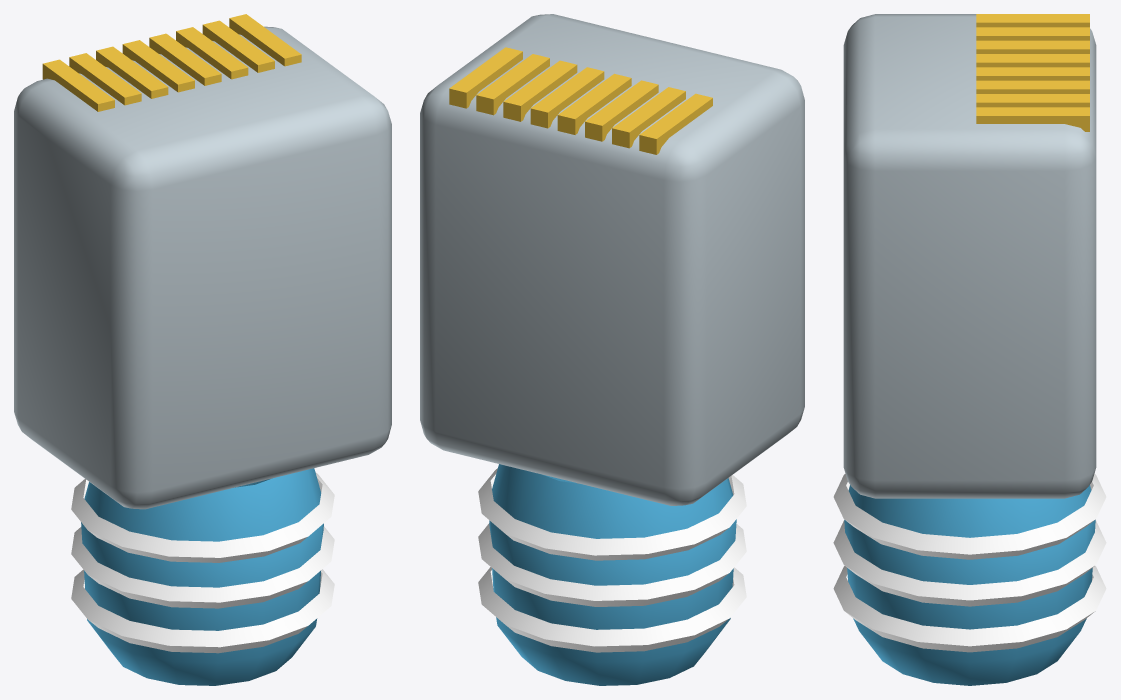
Rendered from deco_plug.glb.
3 views of the same model, side by side, from view 1: azimuth 30°, elevation 25°; view 2: azimuth 150°, elevation 25°; view 3: azimuth 270°, elevation 25° (orthographic). The views are drawn at different scales.
Visible parts, largest first — view 1: deco_plug; view 2: deco_plug; view 3: deco_plug.
Boxes of the visible parts, <box> form: deco_plug: <box>14,14,391,685</box>; deco_plug: <box>420,14,804,685</box>; deco_plug: <box>833,14,1106,685</box>.
Bounding box in the file's own units: 2.6 × 5.07 × 2.16.
